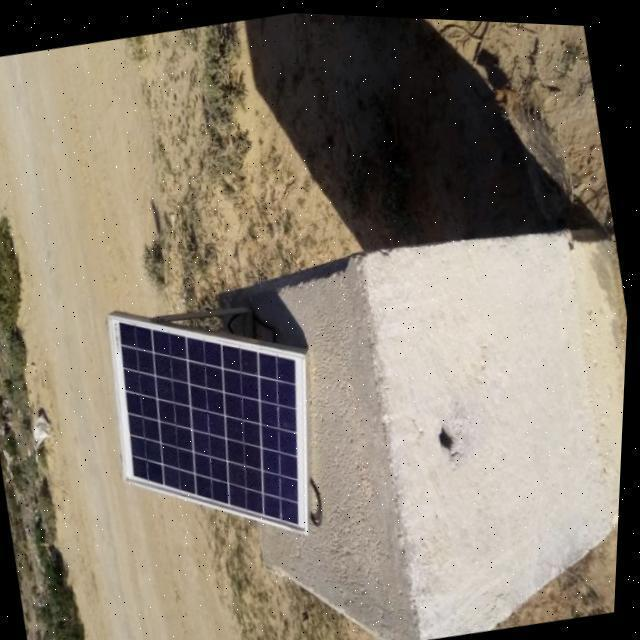Normal Solar Panel: (95, 277, 342, 562)
